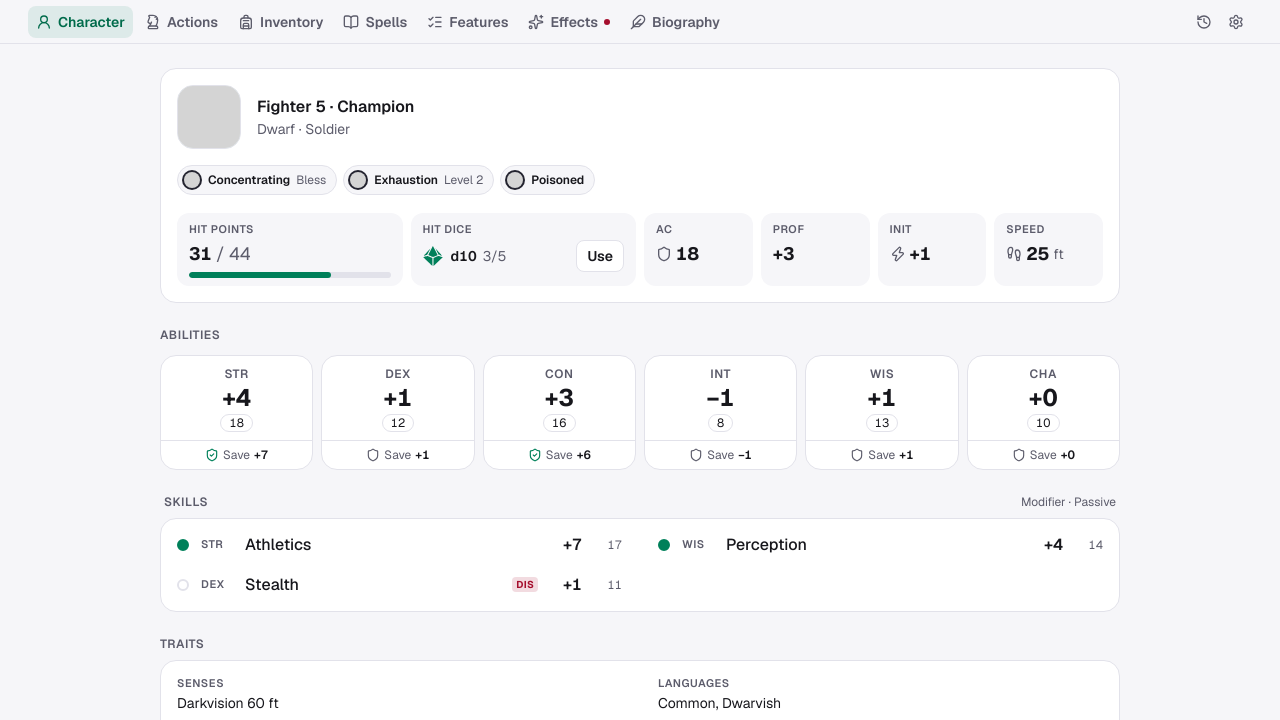
Test case: components/character-sheet/item-menu, Remove…, from module 0.33.0 › offers Remove… alone with moves off, at the item’s own name
Step 1. Click the tab "Inventory" → [281, 22], box [230,6,331,38]
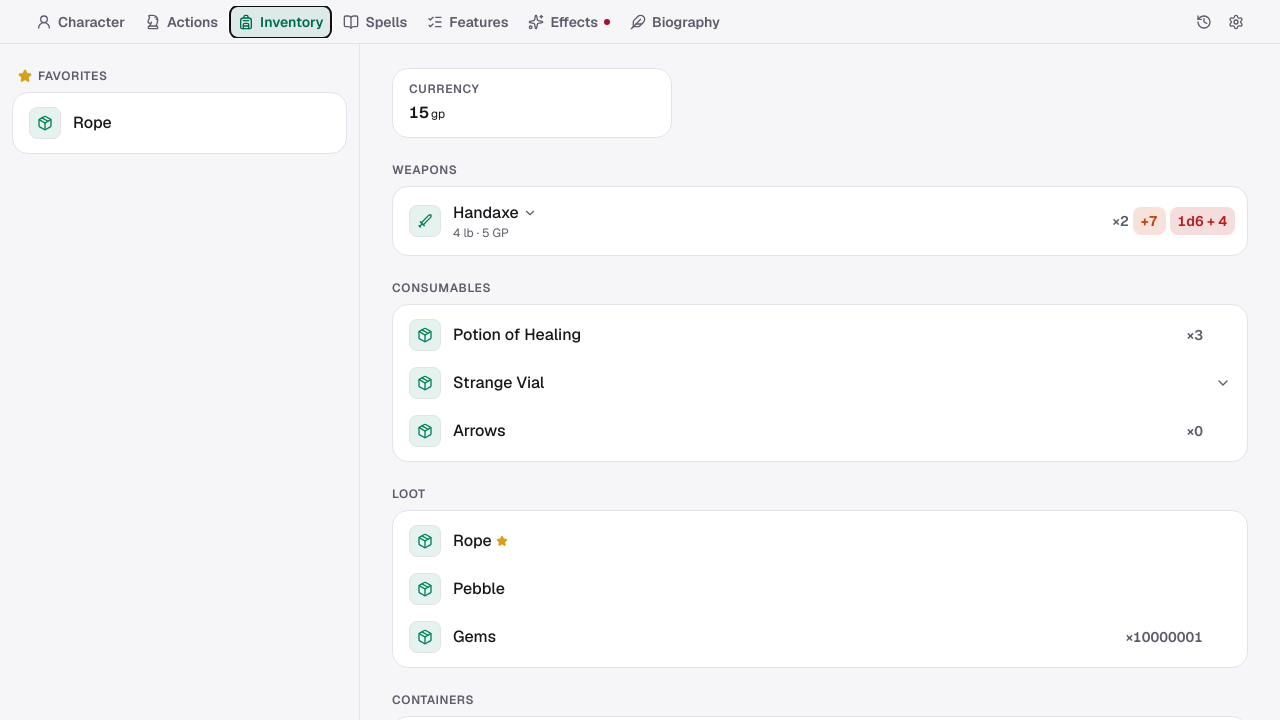
Step 2. Right-click the element showing "Rope" below "Loot" → [462, 544], box [409,525,514,562]
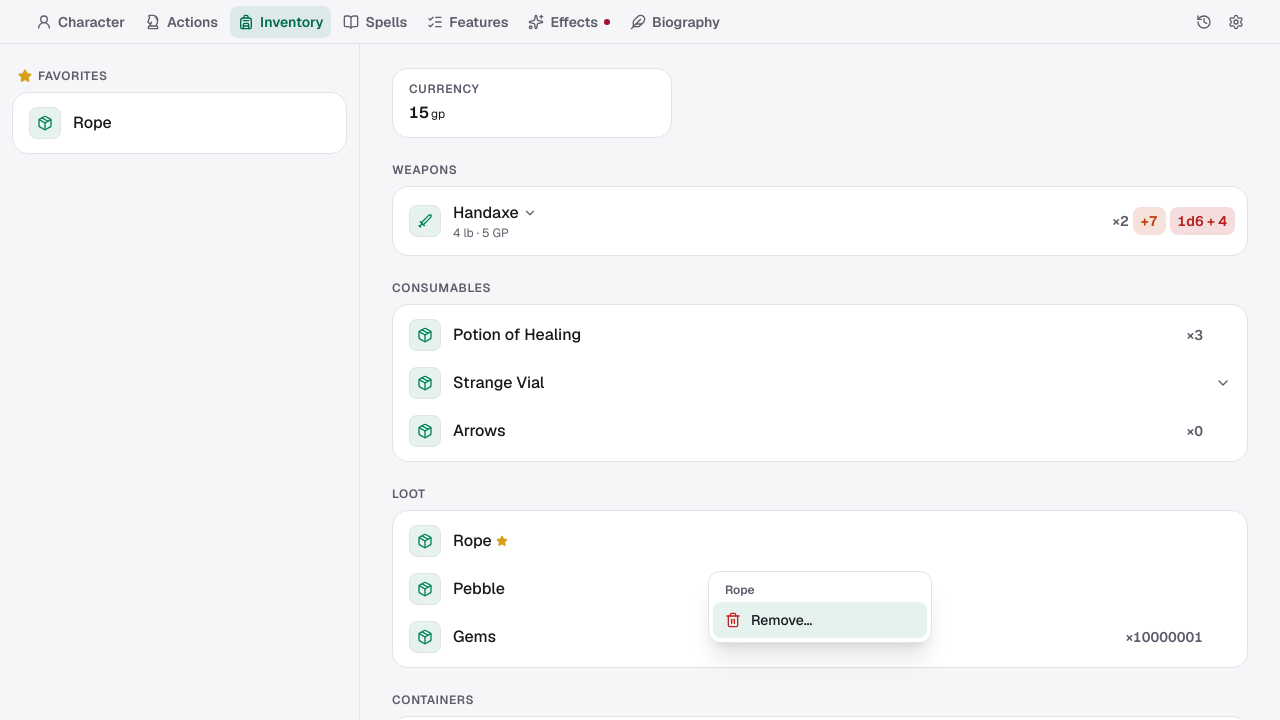
Expected: the menu item "Remove…" is enabled, [713,602,927,638]
